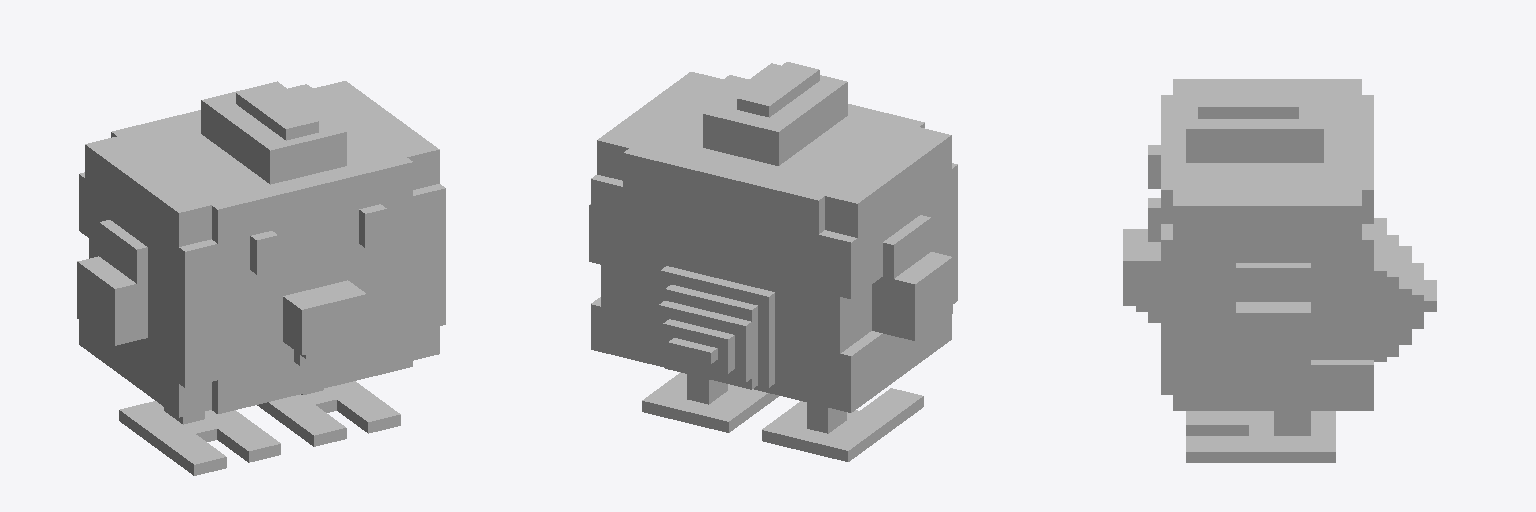
Rendered from Freaking Chicken.obj.
The picture shows the model from 3 angles: view 1: azimuth 30°, elevation 25°; view 2: azimuth 150°, elevation 25°; view 3: azimuth 270°, elevation 25°; orthographic projection.
Visible parts, largest first — view 1: Freaking Chicken; view 2: Freaking Chicken; view 3: Freaking Chicken.
Part boxes in pixels (x1,y1,x2,y2): Freaking Chicken: (77, 81, 445, 475); Freaking Chicken: (589, 62, 957, 461); Freaking Chicken: (1123, 79, 1436, 462).
Size of the model in its own units: 30 by 28 by 25.